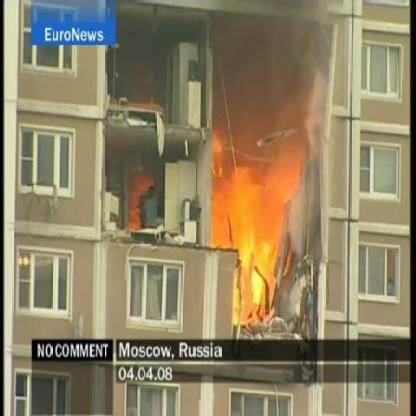fire: (213, 132, 281, 322)
